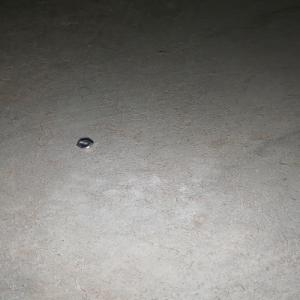Nut: (75, 138, 93, 149)
